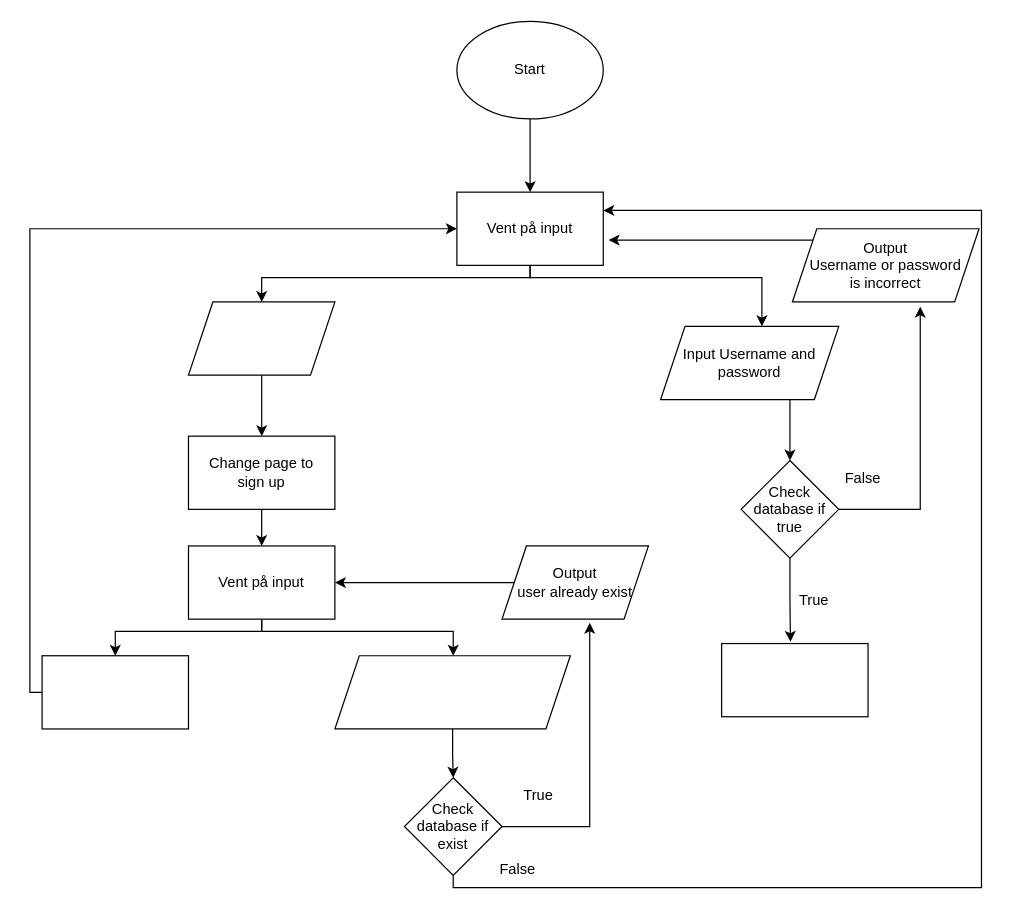
Image size: 1013x919. Some labels were removed from this diagram. The centre of each missing label's shape, as x and y in pixels:
"Change page to logged in" goes at (794,679).
"Input new Username and new password" goes at (452,692).
"Press button Log in" goes at (114,692).
"Press button Sign up" goes at (261,338).
